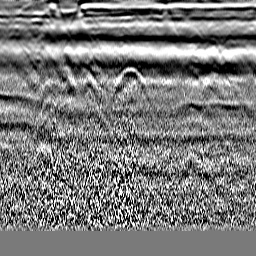cavity: (114, 66, 146, 90)
